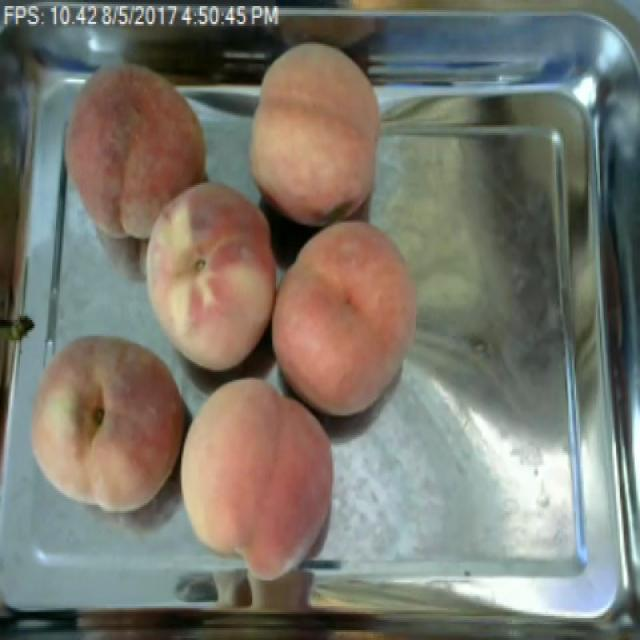Fruit: (164, 368, 347, 590), (16, 320, 200, 529), (55, 52, 221, 252), (274, 213, 426, 427), (132, 169, 279, 382), (239, 32, 392, 230)
